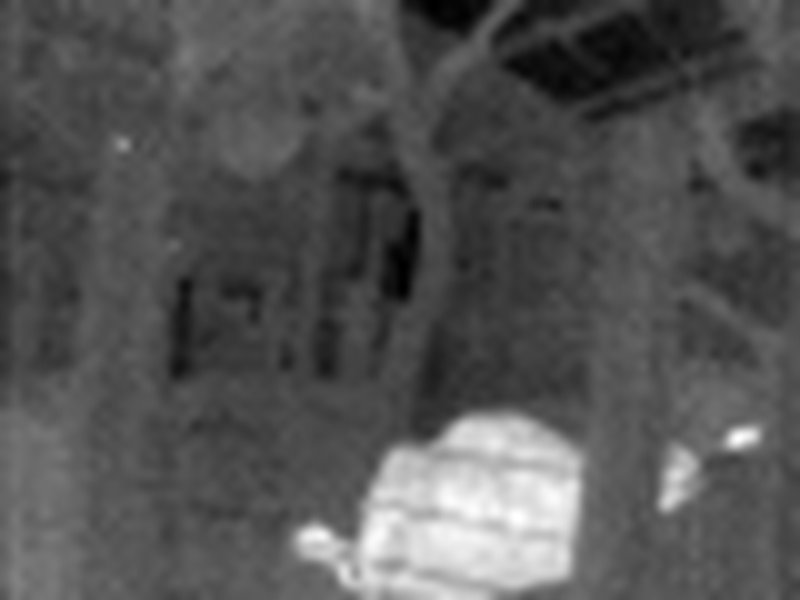elephant: (299, 396, 712, 600)
